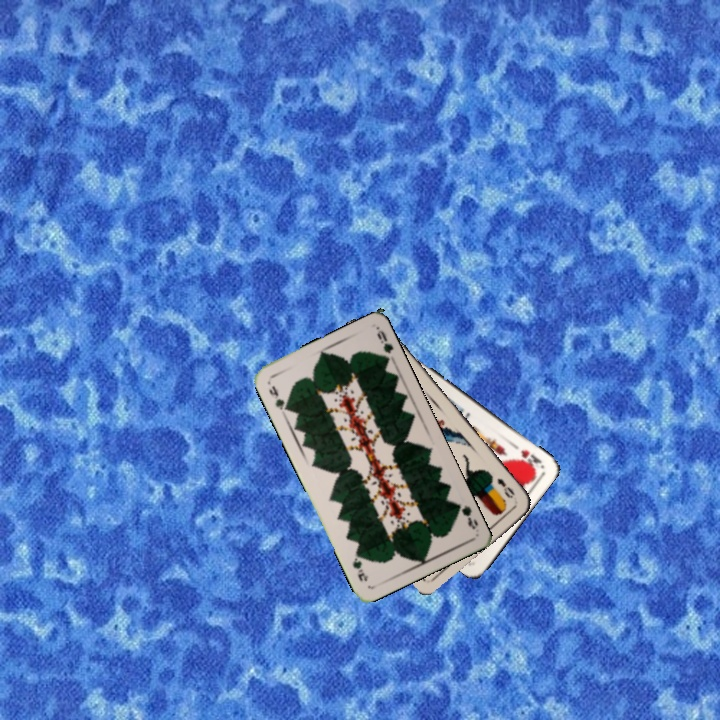EO: (493, 474, 517, 501)
G9: (450, 499, 481, 532), (265, 381, 292, 414)
HK: (509, 440, 545, 472)
